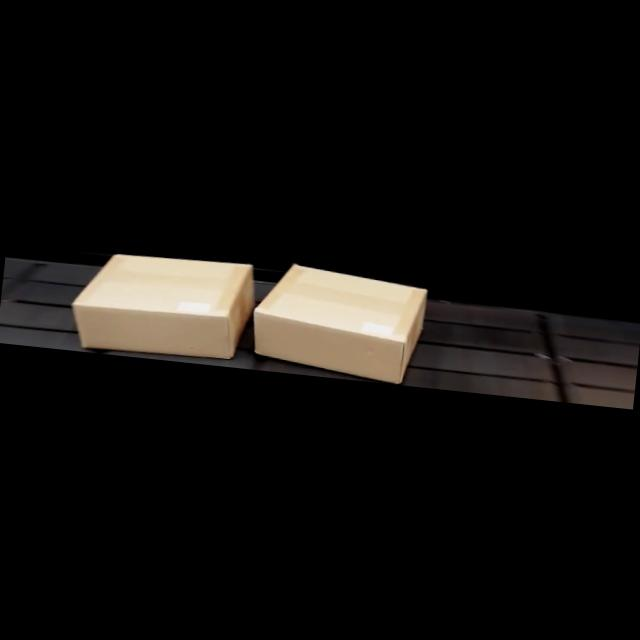box: (248, 258, 430, 386), (70, 245, 258, 362)
